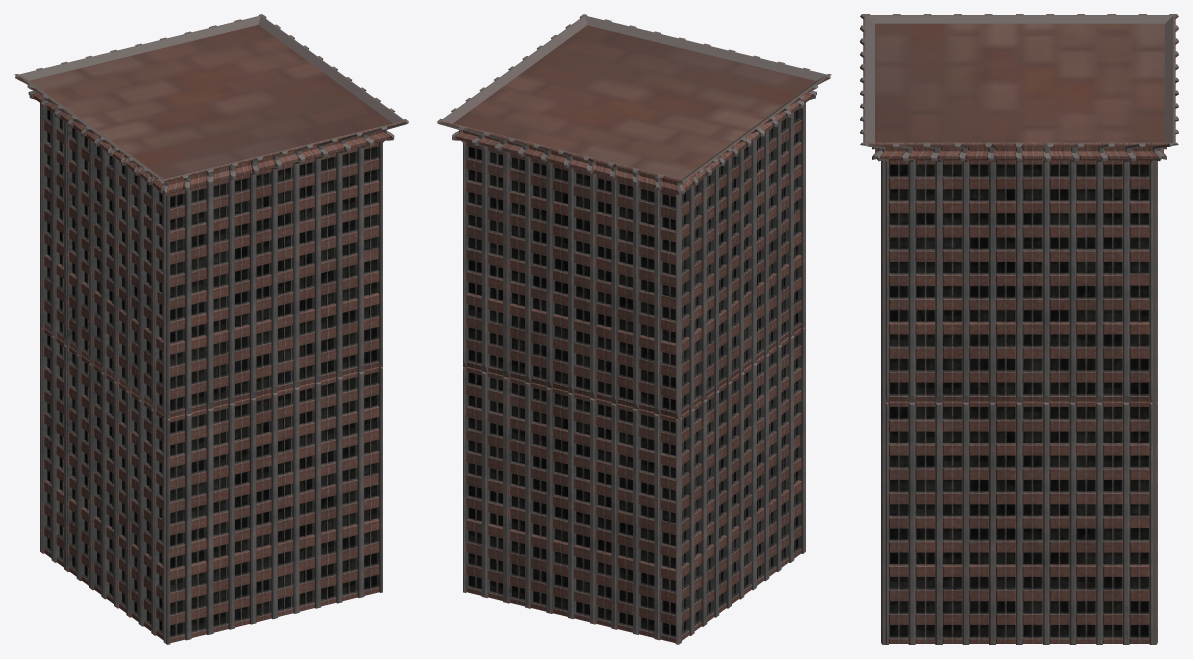
The model's file is building_09.glb.
3 views of the same model, side by side, from view 1: azimuth 30°, elevation 25°; view 2: azimuth 150°, elevation 25°; view 3: azimuth 270°, elevation 25° (orthographic). The views are drawn at different scales.
Visible parts, largest first — view 1: Plane_0; view 2: Plane_0; view 3: Plane_0.
Boxes of the visible parts, x1,y1,x2,y2 form: Plane_0: (14,14,408,644); Plane_0: (437,14,831,644); Plane_0: (860,14,1178,644).
Size of the model in its own units: 1.16 by 2.1 by 1.19.
Materials: 2 (2 with a texture image).
